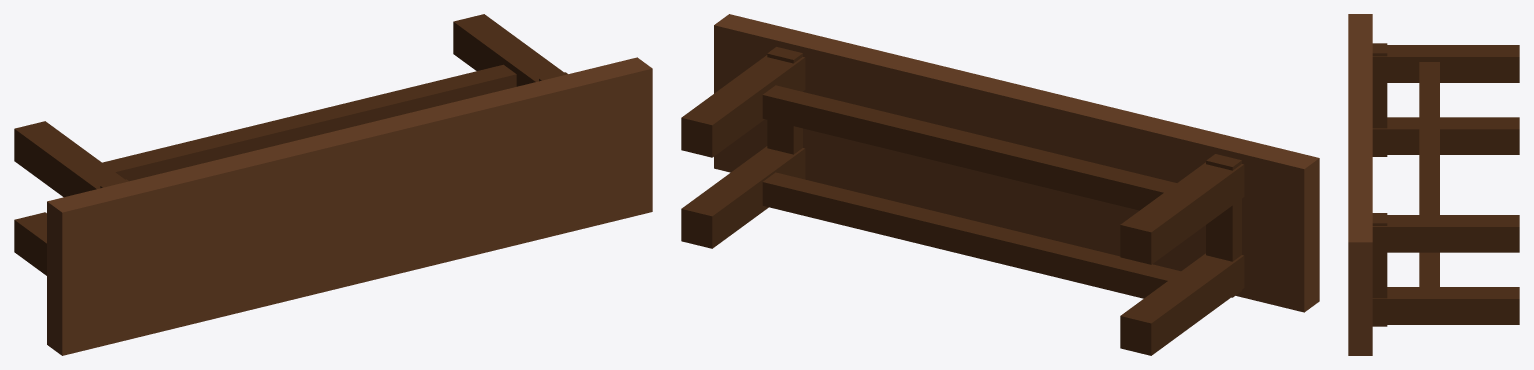
The model's file is SM_Izba_Bench_1348_LOD1.obj.
3 views of the same model, side by side, from view 1: azimuth 30°, elevation 25°; view 2: azimuth 150°, elevation 25°; view 3: azimuth 270°, elevation 25° (orthographic). The views are drawn at different scales.
Parts seen in each view (by area): view 1: bench_board, bench_rail, bench_leg; view 2: bench_board, bench_rail, bench_leg, bench_crossbeam; view 3: bench_leg, bench_board, bench_rail, bench_crossbeam.
Part boxes in pixels (left/top/right/bottom): bench_board: left=47, top=57, right=652, bottom=355; bench_rail: left=102, top=64, right=516, bottom=181; bench_leg: left=14, top=14, right=563, bottom=275; bench_board: left=714, top=14, right=1319, bottom=312; bench_rail: left=762, top=85, right=1180, bottom=298; bench_leg: left=681, top=55, right=1244, bottom=355; bench_crossbeam: left=767, top=47, right=1241, bottom=297; bench_leg: left=1372, top=45, right=1519, bottom=324; bench_board: left=1348, top=14, right=1372, bottom=355; bench_rail: left=1419, top=62, right=1439, bottom=286; bench_crossbeam: left=1372, top=43, right=1387, bottom=326.
Bounding box in the file's own units: 1.56 × 0.362 × 0.495.
